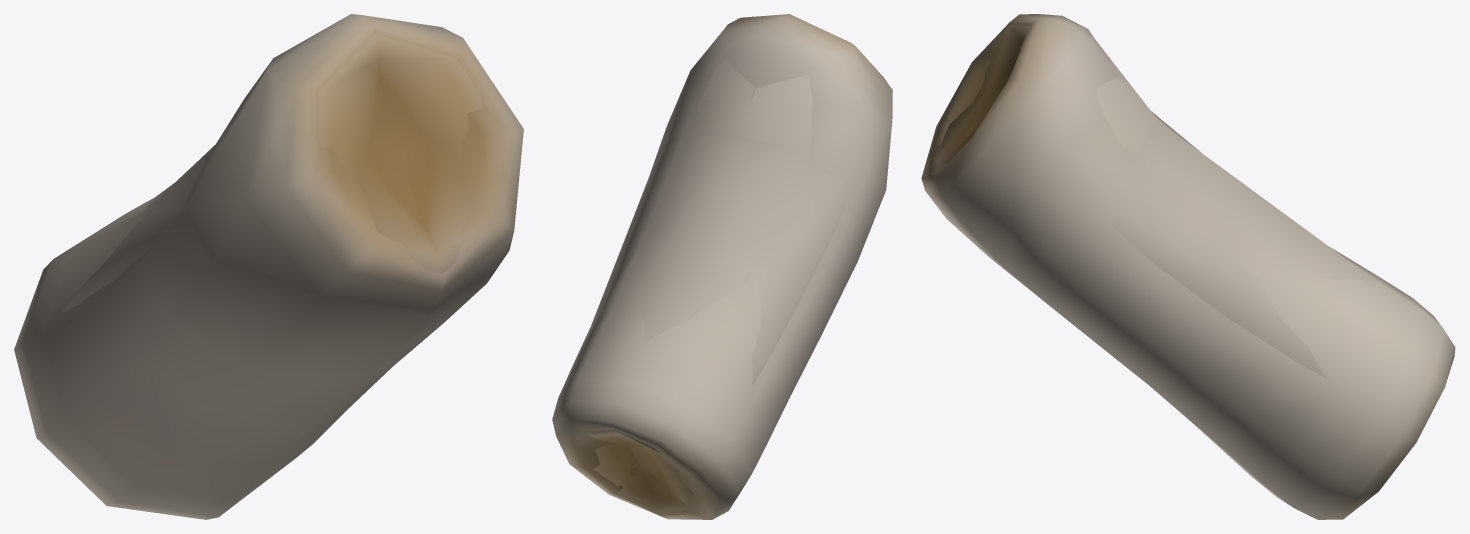
The model's file is vertebrae caudales 13.fbx.
3 renders of one model, left to right at view 1: azimuth 30°, elevation 25°; view 2: azimuth 150°, elevation 25°; view 3: azimuth 270°, elevation 25°, orthographic. The views are drawn at different scales.
Parts seen in each view (by area): view 1: vertebrae caudales 13, vertebrae caudales 13 low; view 2: vertebrae caudales 13, vertebrae caudales 13 low; view 3: vertebrae caudales 13, vertebrae caudales 13 low.
Boxes of the visible parts, x1,y1,x2,y2 form: vertebrae caudales 13: [14, 14, 523, 519]; vertebrae caudales 13 low: [61, 34, 483, 311]; vertebrae caudales 13: [552, 14, 892, 519]; vertebrae caudales 13 low: [583, 60, 853, 510]; vertebrae caudales 13: [921, 14, 1455, 519]; vertebrae caudales 13 low: [923, 25, 1377, 378].
Bounding box in the file's own units: 0.7038 × 1.37 × 1.35.
1 material, 1 textured.
